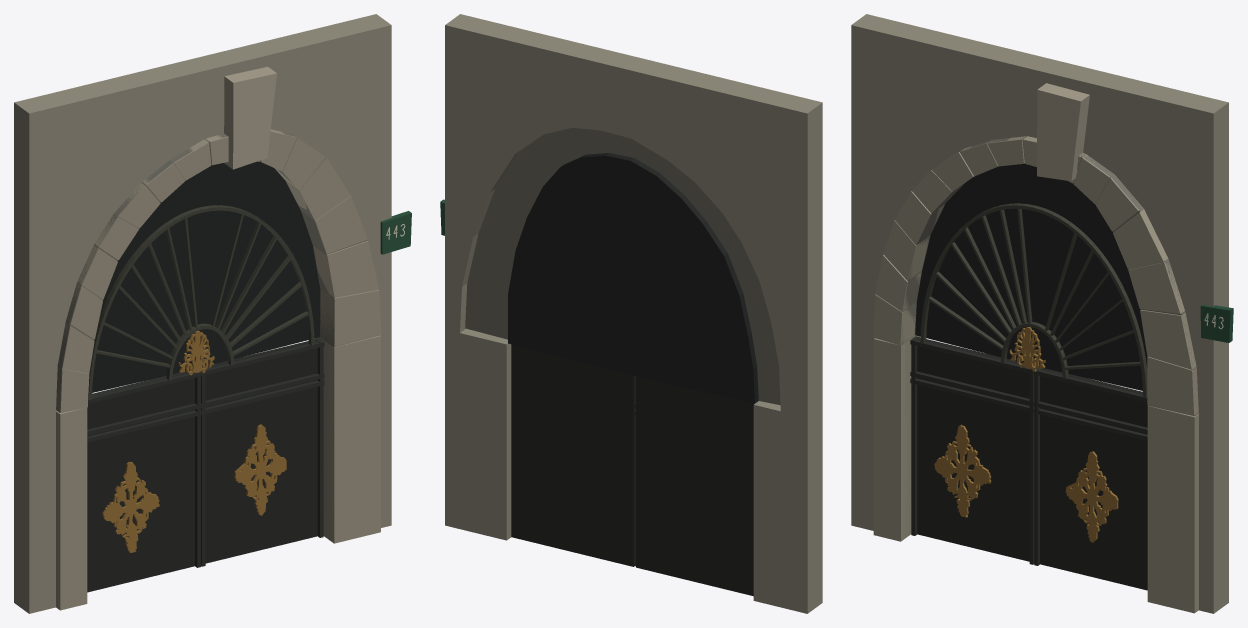
Rendered from huangpu-hongyu-textile-no443-brass-fan-gate-web.glb.
3 renders of one model, left to right at view 1: azimuth 30°, elevation 25°; view 2: azimuth 150°, elevation 25°; view 3: azimuth 330°, elevation 25°, orthographic.
Parts seen in each view (by area): view 1: 鸿裕纺织有限公司大楼443号券门与镂空铜饰; view 2: 鸿裕纺织有限公司大楼443号券门与镂空铜饰; view 3: 鸿裕纺织有限公司大楼443号券门与镂空铜饰.
Boxes of the visible parts, x1,y1,x2,y2 form: 鸿裕纺织有限公司大楼443号券门与镂空铜饰: (14, 14, 411, 613); 鸿裕纺织有限公司大楼443号券门与镂空铜饰: (440, 14, 822, 613); 鸿裕纺织有限公司大楼443号券门与镂空铜饰: (851, 14, 1233, 613).
Size of the model in its own units: 3.4 by 4.26 by 0.375.
